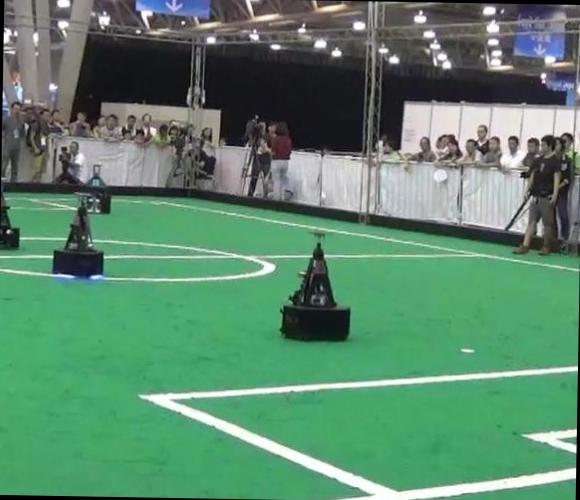person: (514, 135, 561, 254)
robot: (281, 241, 349, 340), (53, 198, 103, 276), (76, 165, 111, 213), (0, 191, 18, 247)
